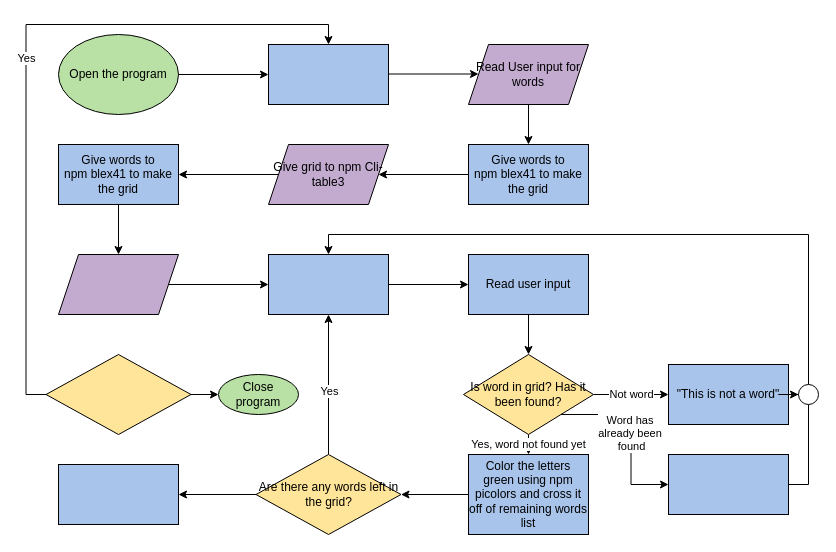
This 836x552 diagram has some shape labels left out. Here are the shapes that lost their labels. From the top down, the box of each, then its label:
(268, 44, 388, 104): Ask the user what words they'd like to include
(58, 254, 178, 314): Return grid to terminal
(268, 254, 388, 314): Ask the user where to find a word
(45, 354, 191, 434): Do they want to do another puzzle?
(58, 464, 178, 524): Congratulate user for finishing grid.
(668, 454, 788, 514): "Word has already been found"
